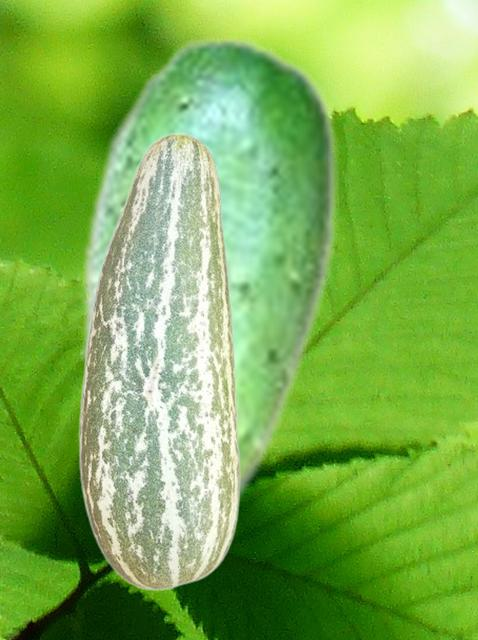cucumber: (80, 33, 337, 510), (78, 132, 240, 590)
